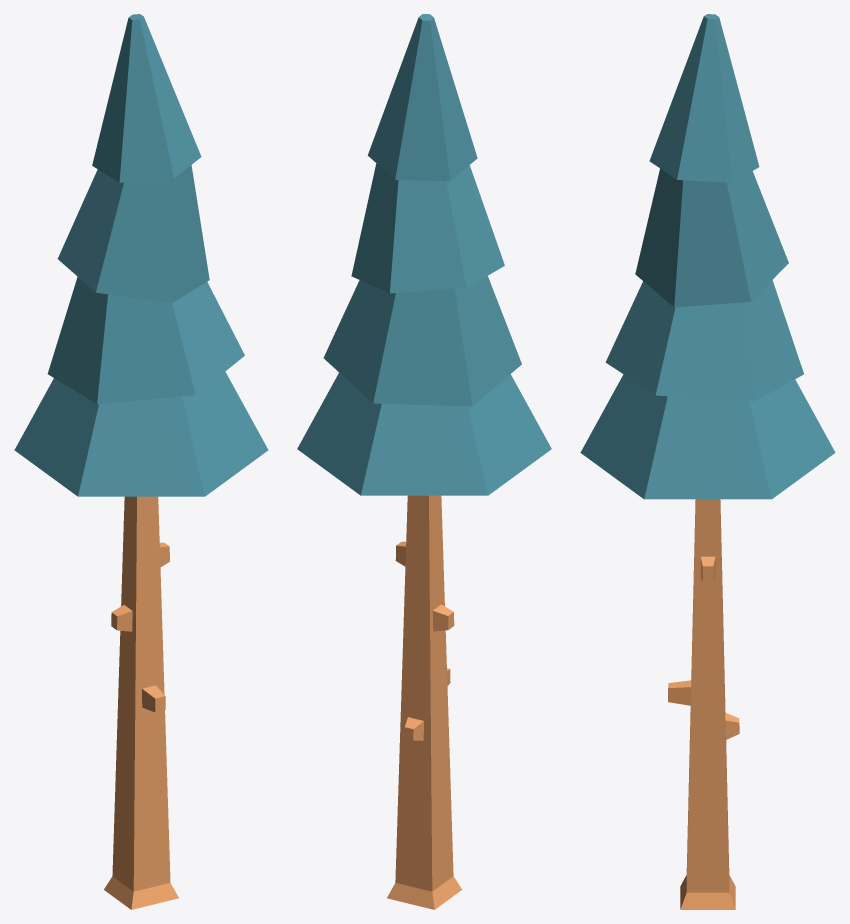
File: tree_pine_tall_detailed.fbx
The picture shows the model from 3 angles, left to right: view 1: azimuth 30°, elevation 25°; view 2: azimuth 150°, elevation 25°; view 3: azimuth 270°, elevation 25°; orthographic projection.
Parts seen in each view (by area): view 1: tree_pine_tall_detailed; view 2: tree_pine_tall_detailed; view 3: tree_pine_tall_detailed.
Boxes of the visible parts, box(x1,y1,x2,y2) form: tree_pine_tall_detailed: box(14, 14, 268, 909); tree_pine_tall_detailed: box(297, 14, 551, 909); tree_pine_tall_detailed: box(580, 14, 835, 909).
Bounding box in the file's own units: 4.8 × 21.12 × 5.55.
